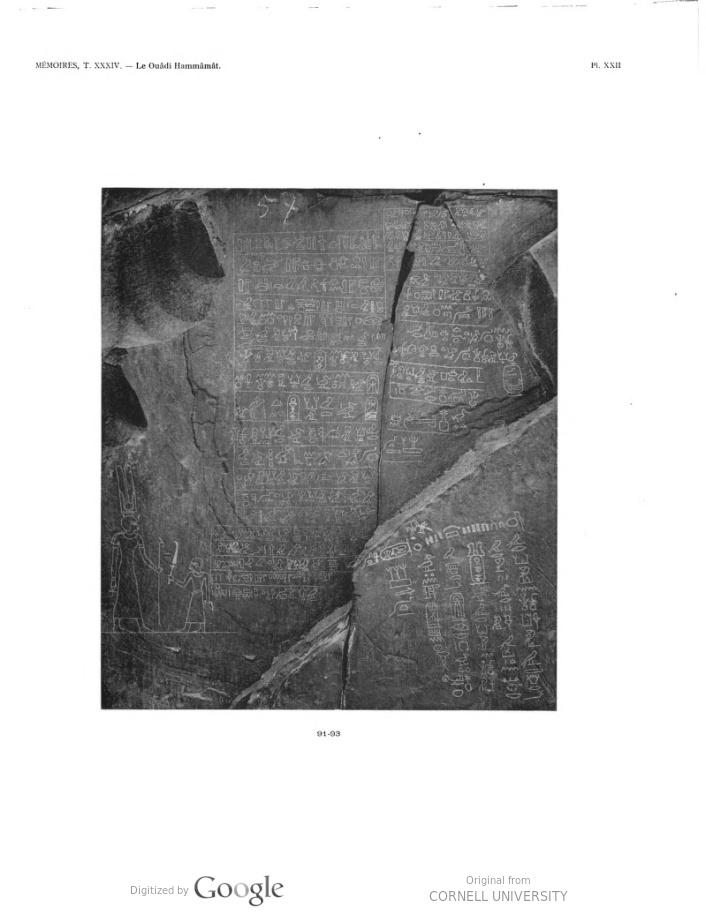circle: (441, 582, 480, 629), (463, 544, 496, 595), (501, 351, 530, 401), (277, 391, 314, 428), (308, 344, 342, 376), (361, 365, 391, 395), (378, 542, 423, 561), (362, 393, 384, 423)
